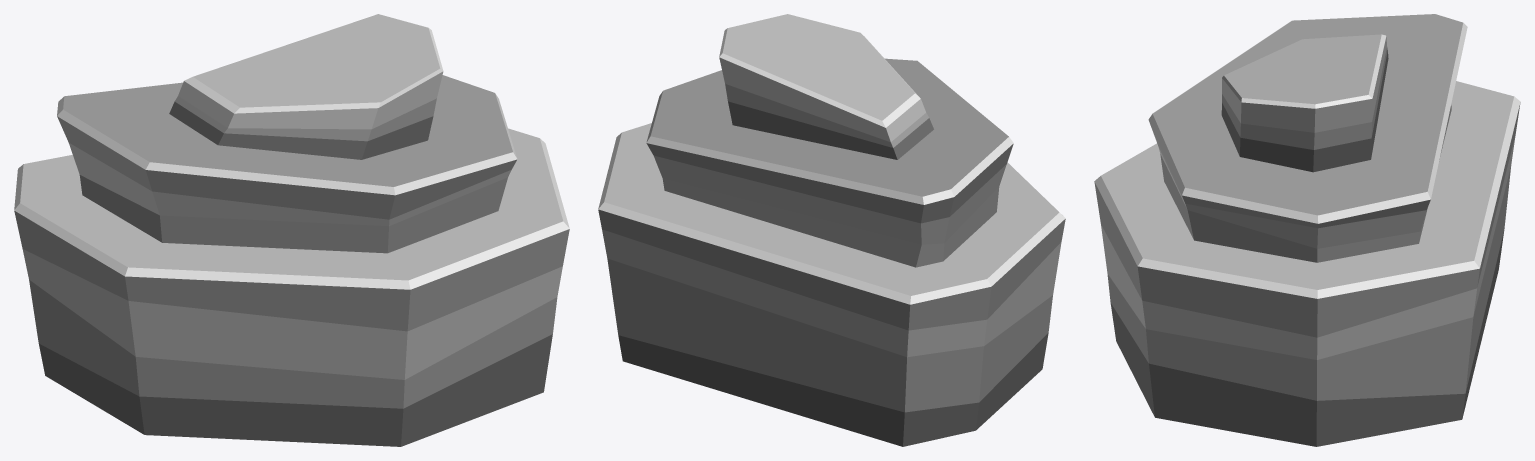
Rendered from Runestrife-Land-Stone1.fbx.
3 renders of one model, left to right at view 1: azimuth 30°, elevation 25°; view 2: azimuth 150°, elevation 25°; view 3: azimuth 270°, elevation 25°, orthographic. The views are drawn at different scales.
Visible parts, largest first — view 1: Stone; view 2: Stone; view 3: Stone.
Part boxes in pixels (x1,y1,x2,y2): Stone: (14, 14, 569, 446); Stone: (598, 14, 1065, 446); Stone: (1094, 14, 1520, 446).
Size of the model in its own units: 277 by 176 by 228.
